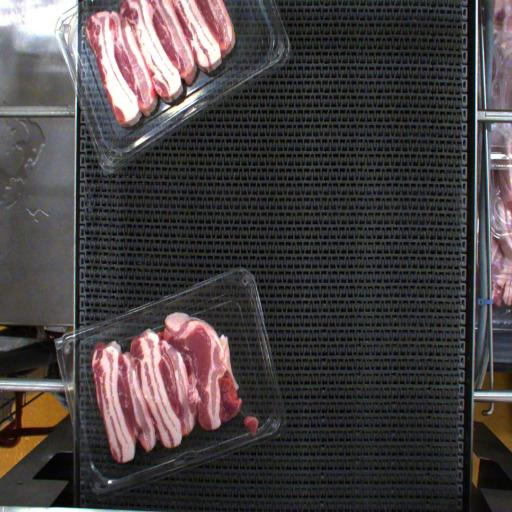loose-meat: (234, 398, 269, 441)
